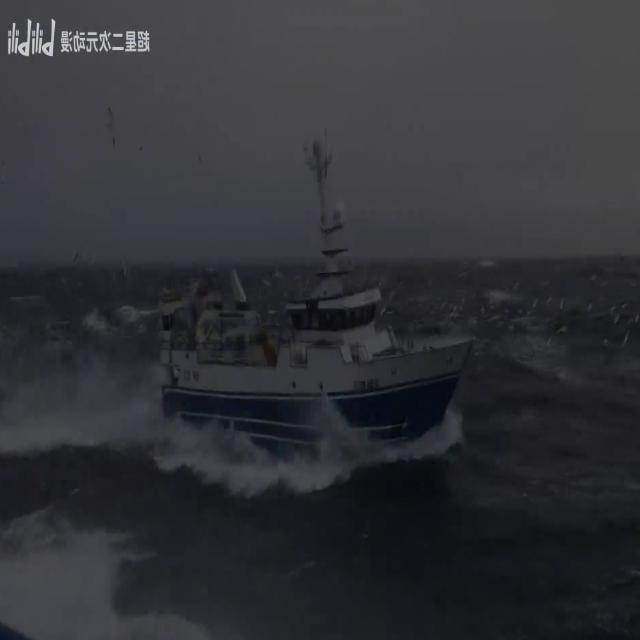houseboat: (166, 140, 471, 436)
